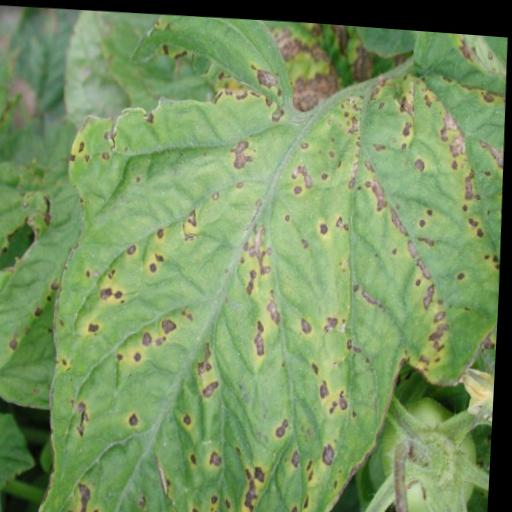Bacterial Spot: (32, 3, 512, 512)
